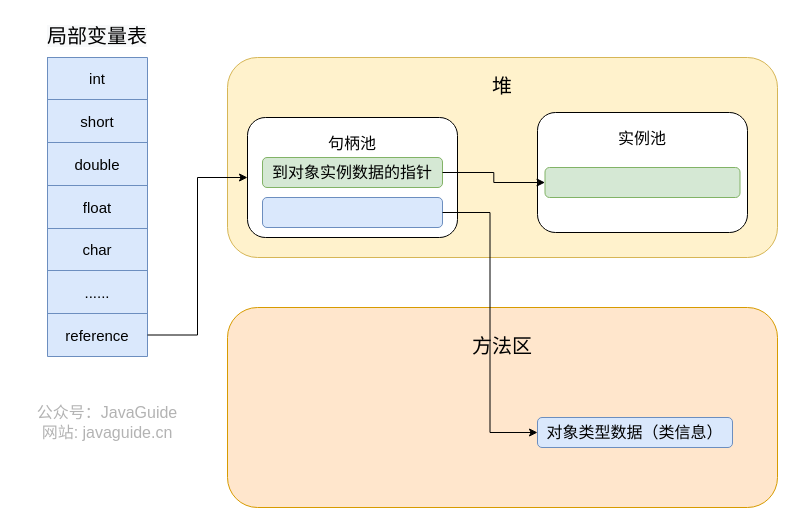
Image size: 795x525. Some labels were removed from this diagram. The shapes that lost their labels are listed below. From the top down, each one's centre as x and y in pixels, then its label:
pixel 642 182: 对象实例数据（对象信息）
pixel 352 212: 到对象类型数据的指针
